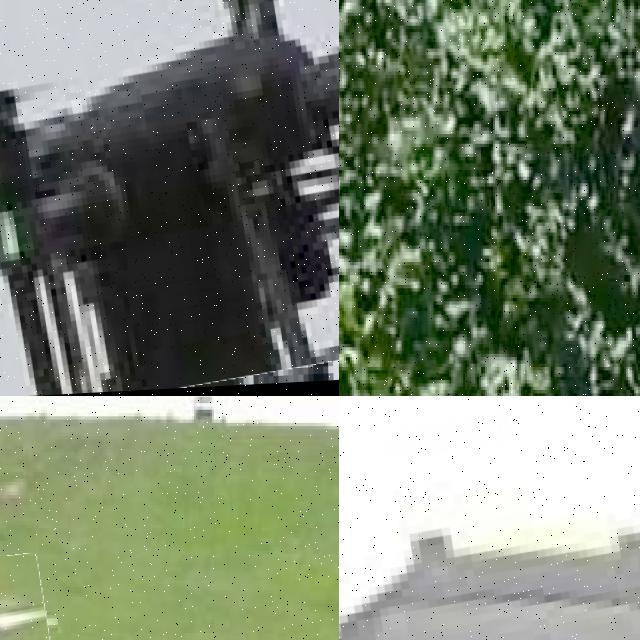drone: (0, 0, 339, 396), (339, 396, 640, 640)
